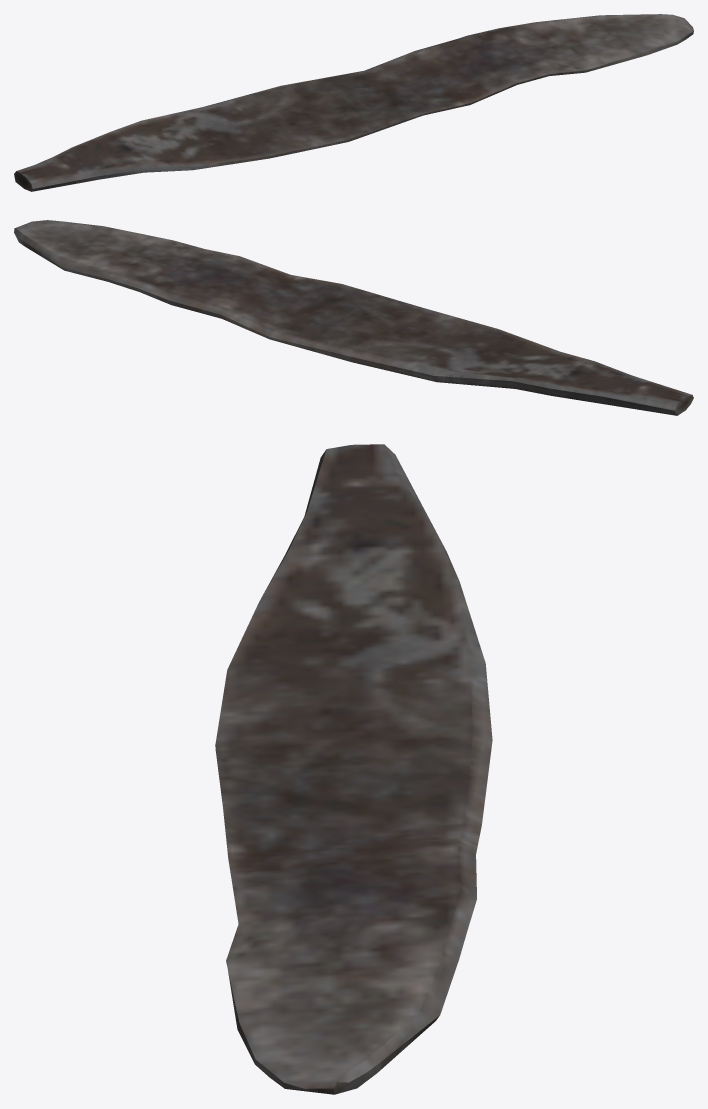
The model's file is plane_wreckage_blade.dae.
3 renders of one model, top to bottom at view 1: azimuth 30°, elevation 25°; view 2: azimuth 150°, elevation 25°; view 3: azimuth 270°, elevation 25°, orthographic. The views are drawn at different scales.
Parts seen in each view (by area): view 1: plane_wreckage_blade; view 2: plane_wreckage_blade; view 3: plane_wreckage_blade.
Boxes of the visible parts, <box> form: plane_wreckage_blade: <box>14,14,693,191</box>; plane_wreckage_blade: <box>14,220,693,415</box>; plane_wreckage_blade: <box>215,444,492,1094</box>.
Size of the model in its own units: 228 by 7.5 by 41.63.
